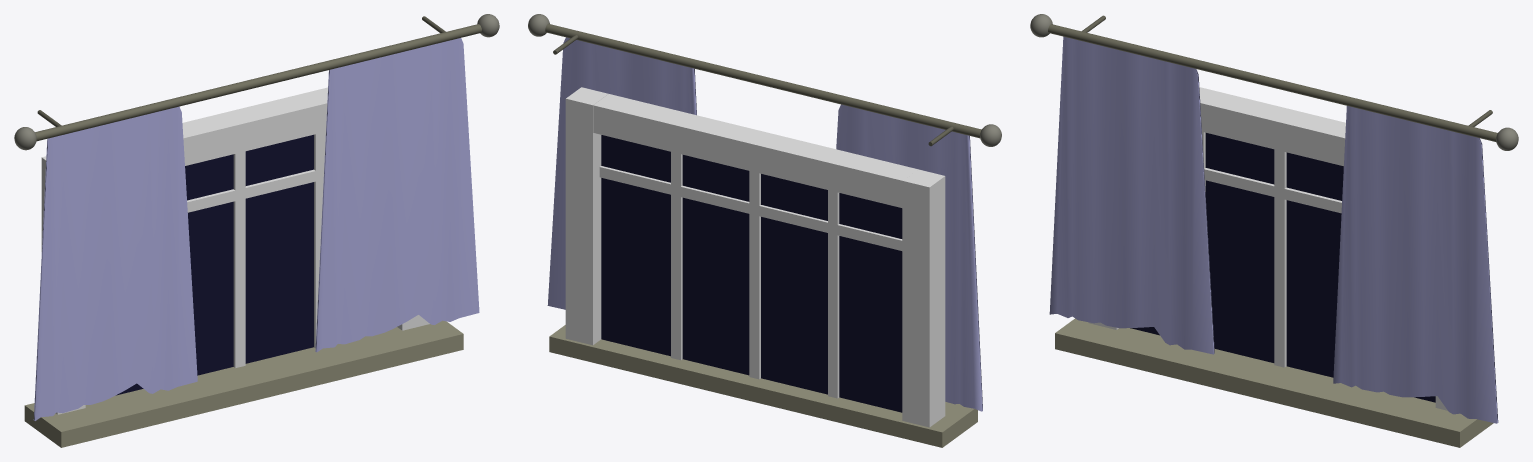
The model's file is colored window.fbx.
3 views of the same model, side by side, from view 1: azimuth 30°, elevation 25°; view 2: azimuth 150°, elevation 25°; view 3: azimuth 330°, elevation 25° (orthographic). The views are drawn at different scales.
Parts seen in each view (by area): view 1: polySurface3, polySurface4, polySurface8, polySurface12, polySurface6, polySurface5; view 2: polySurface4, polySurface12, polySurface3, polySurface8, polySurface6, polySurface5; view 3: polySurface3, polySurface4, polySurface8, polySurface12, polySurface6, polySurface5.
Boxes of the visible parts, box(x1,y1,x2,y2) form: polySurface3: box(33, 38, 479, 420); polySurface4: box(116, 134, 313, 395); polySurface8: box(24, 320, 463, 447); polySurface12: box(41, 87, 429, 414); polySurface6: box(35, 24, 481, 141); polySurface5: box(14, 14, 499, 150); polySurface4: box(601, 135, 902, 412); polySurface12: box(565, 87, 945, 427); polySurface3: box(547, 37, 982, 411); polySurface8: box(549, 325, 977, 447); polySurface6: box(545, 24, 981, 138); polySurface5: box(528, 14, 1001, 146); polySurface3: box(1049, 36, 1498, 423); polySurface4: box(1130, 133, 1435, 402); polySurface8: box(1055, 318, 1493, 447); polySurface12: box(1088, 87, 1460, 413); polySurface6: box(1048, 24, 1497, 141); polySurface5: box(1030, 14, 1518, 150).
Size of the model in its own units: 2.38 by 1.5 by 0.3115.
